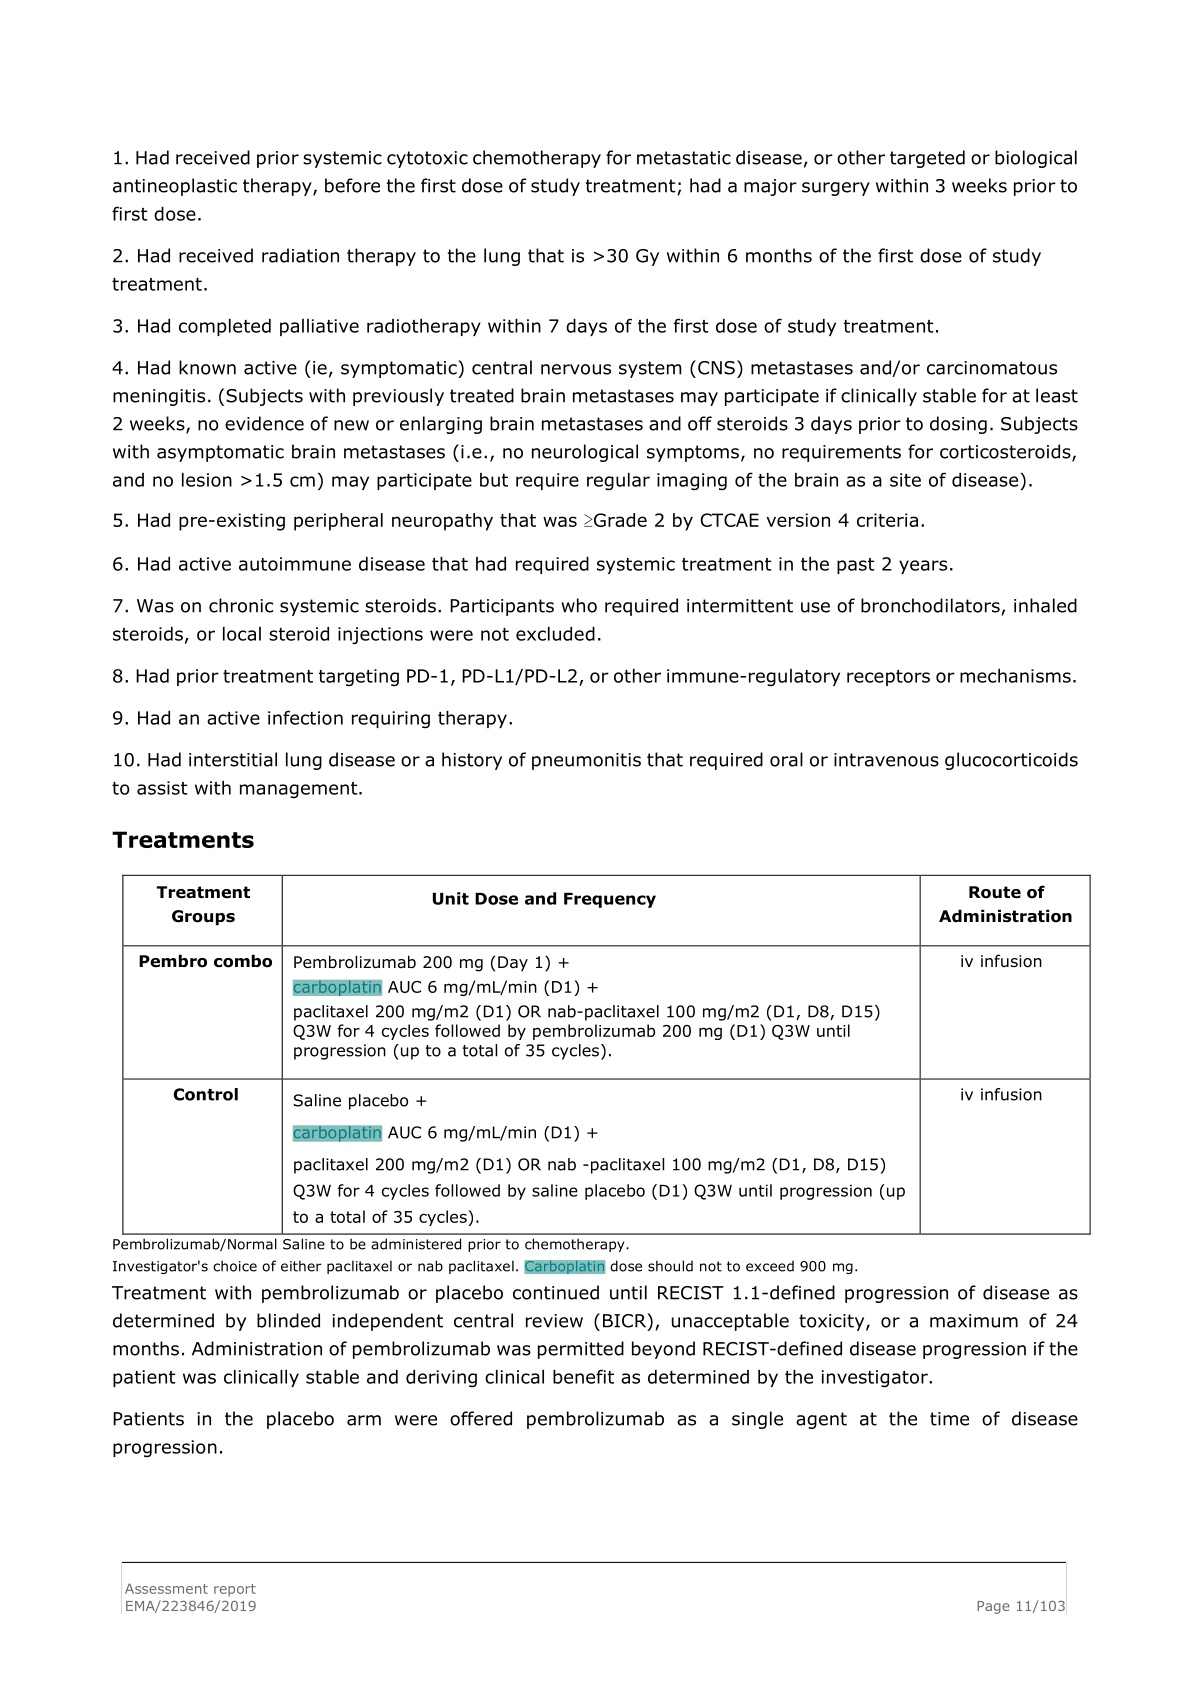full_lined: (121, 873, 1092, 1236)
